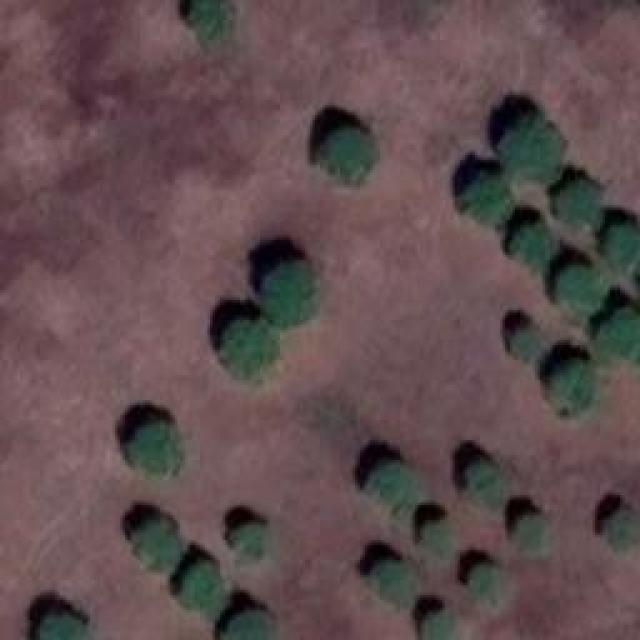Tree: (260, 263, 313, 328), (502, 122, 560, 180), (220, 320, 275, 370), (130, 423, 180, 473), (325, 128, 373, 178), (595, 308, 640, 361), (180, 560, 223, 613), (365, 465, 415, 505), (555, 267, 603, 305), (470, 175, 510, 220), (193, 0, 233, 45), (138, 520, 178, 565), (550, 363, 590, 408), (558, 185, 603, 223), (375, 560, 413, 605), (513, 225, 553, 263), (223, 610, 273, 640), (468, 460, 501, 505), (607, 227, 640, 262), (40, 615, 85, 640), (607, 509, 640, 542), (470, 565, 500, 600), (520, 518, 545, 553), (235, 523, 263, 553), (425, 523, 453, 553), (510, 327, 538, 355), (423, 615, 453, 640)
